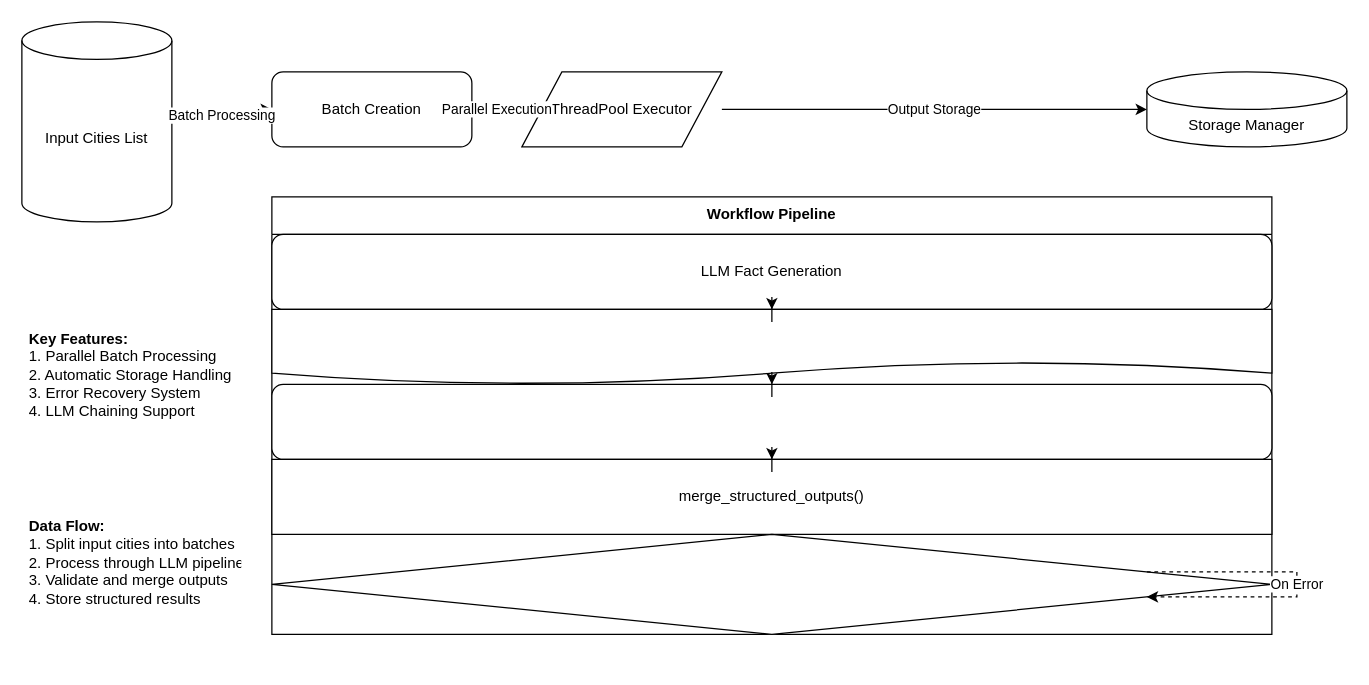
This 1369x685 diagram has some shape labels left out. Each missing label, with the centre of its shape:
Error Handling & Logging: the point at 771,583
LLM Validation: the point at 771,421
Structured Output (JSON Schema): the point at 771,346
